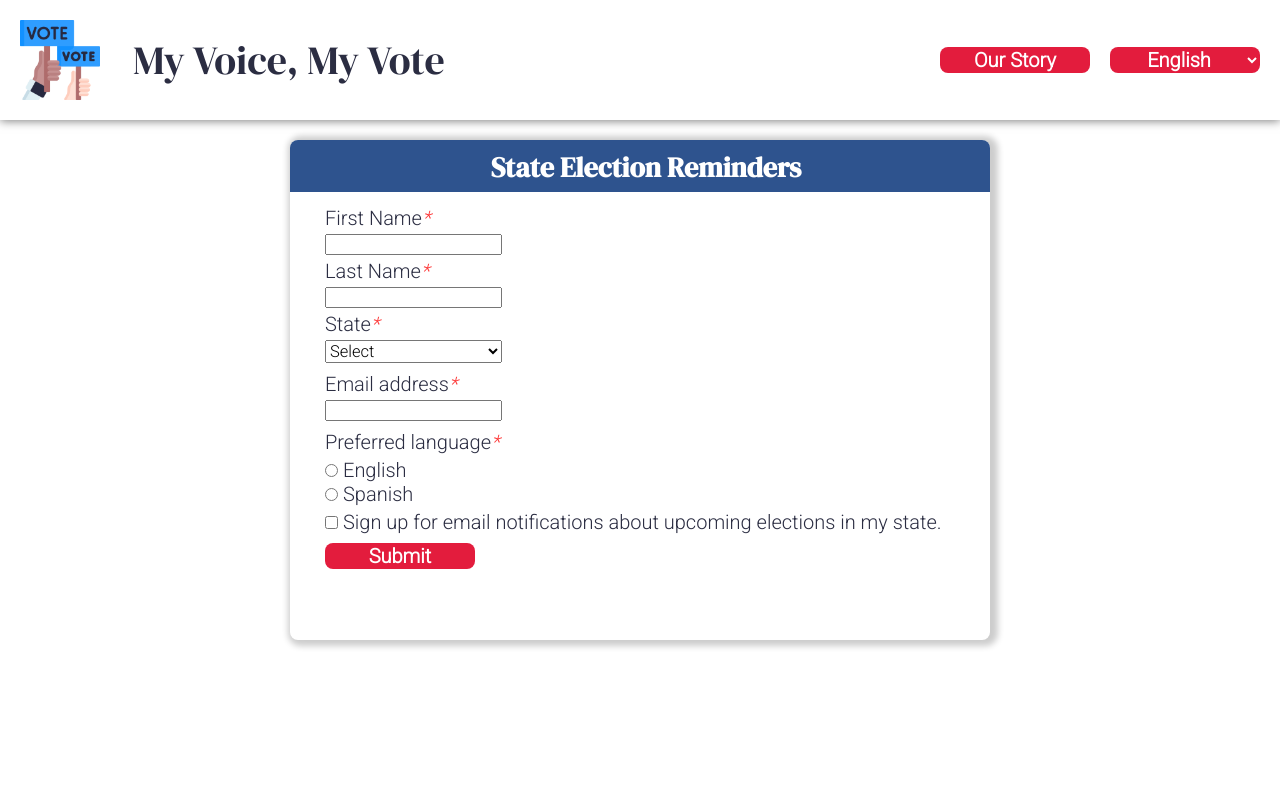
Test case: Mi Voz, Mi Voto email notification form user flow › Should be able to input a first name, last name, email & select a state, language, and confirm subscription
Select "English" in the dropdown with class "en-espanol-button" at (1185, 60), box [1110, 47, 1260, 73]
Type "Elise" into the field with id "first_name" at (414, 245), box [325, 234, 502, 255]
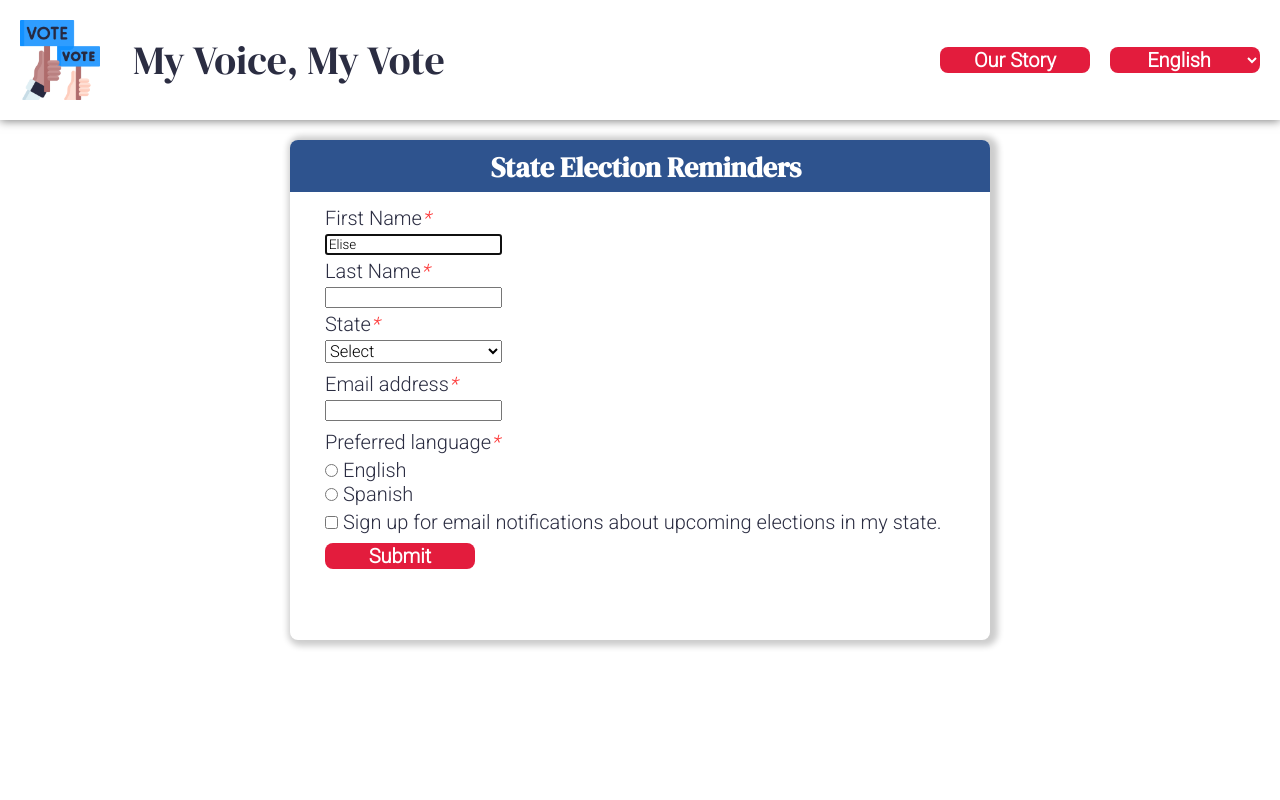
Type "Beall" into the field with id "last_name" at (414, 298), box [325, 287, 502, 308]
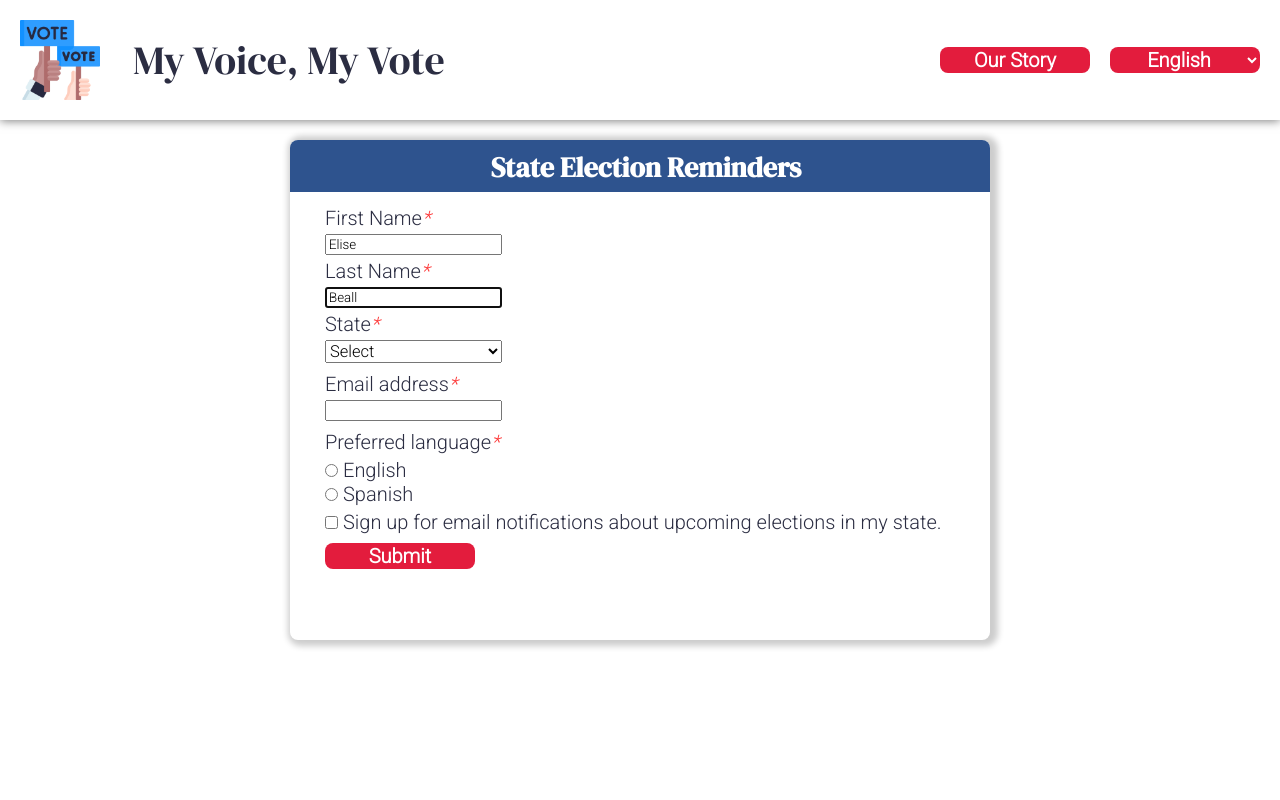
Select "Colorado" in the dropdown with id "state_name" at (414, 352), box [325, 340, 502, 363]
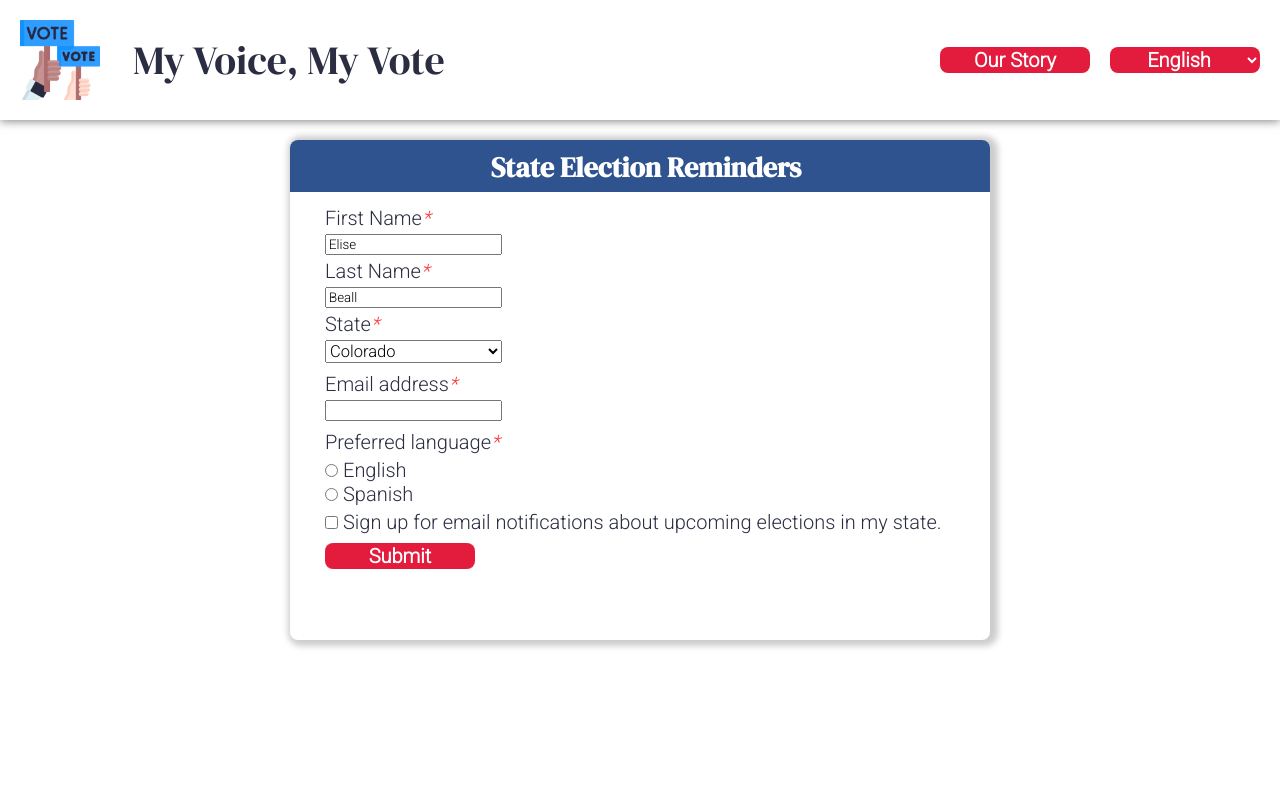
Type "elisebeall@gmail.com" into the field with id "email" at (414, 411), box [325, 400, 502, 421]
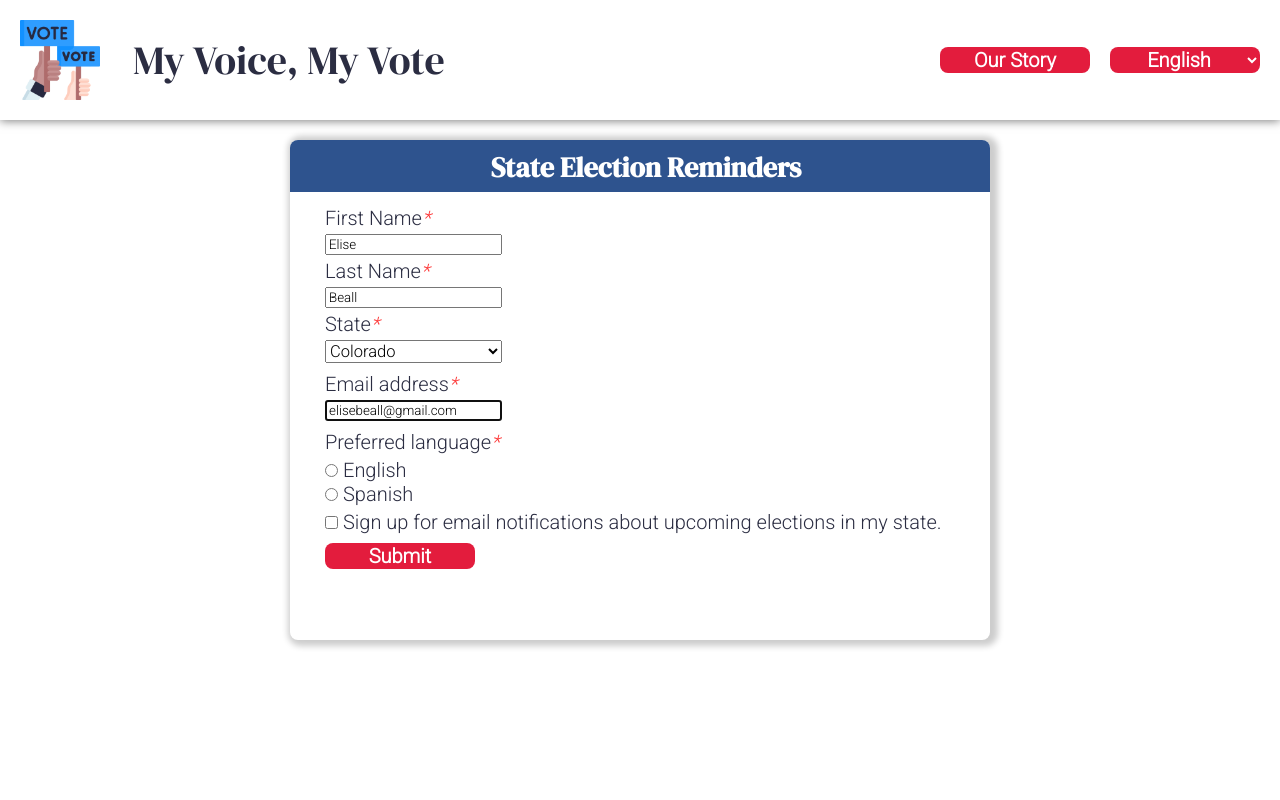
Click the radio button labelled "English" at (332, 471), box [325, 464, 338, 477]
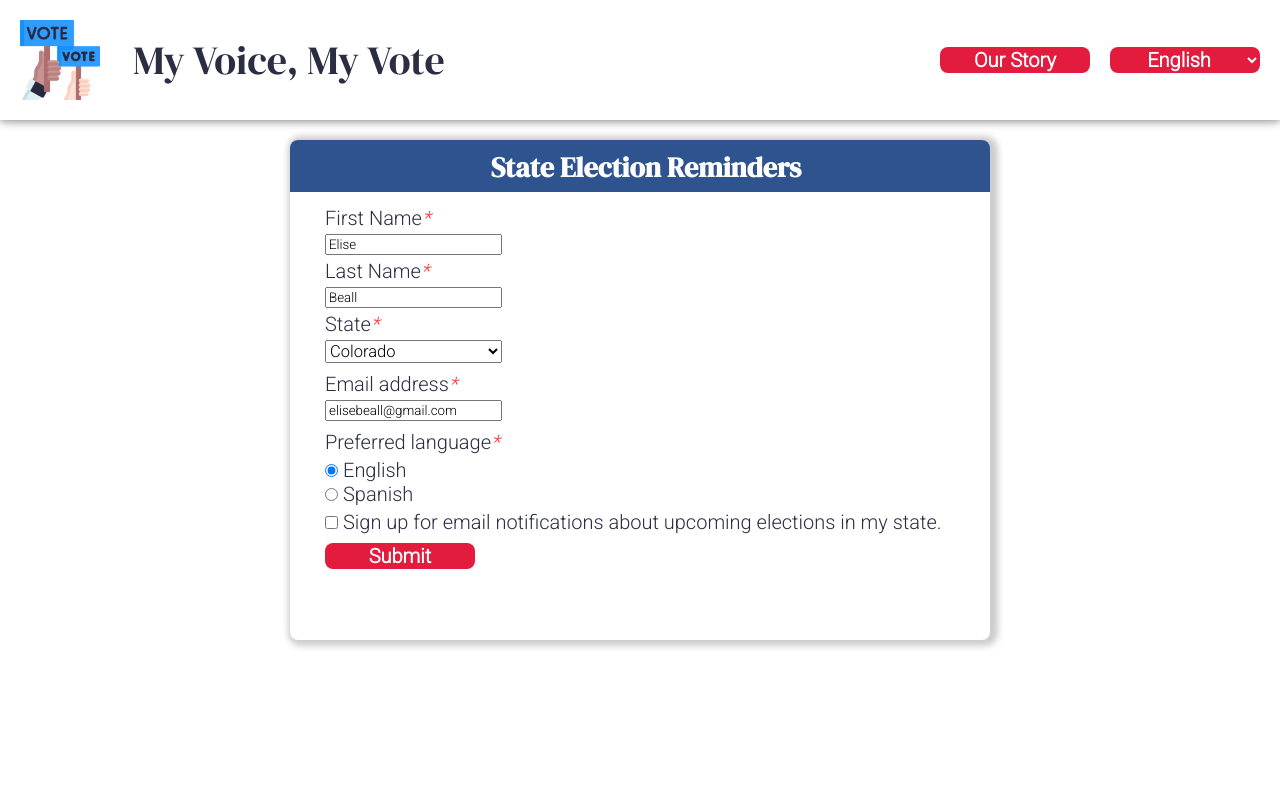
Click the checkbox with id "agree_to_emails" at (332, 523), box [325, 516, 338, 529]
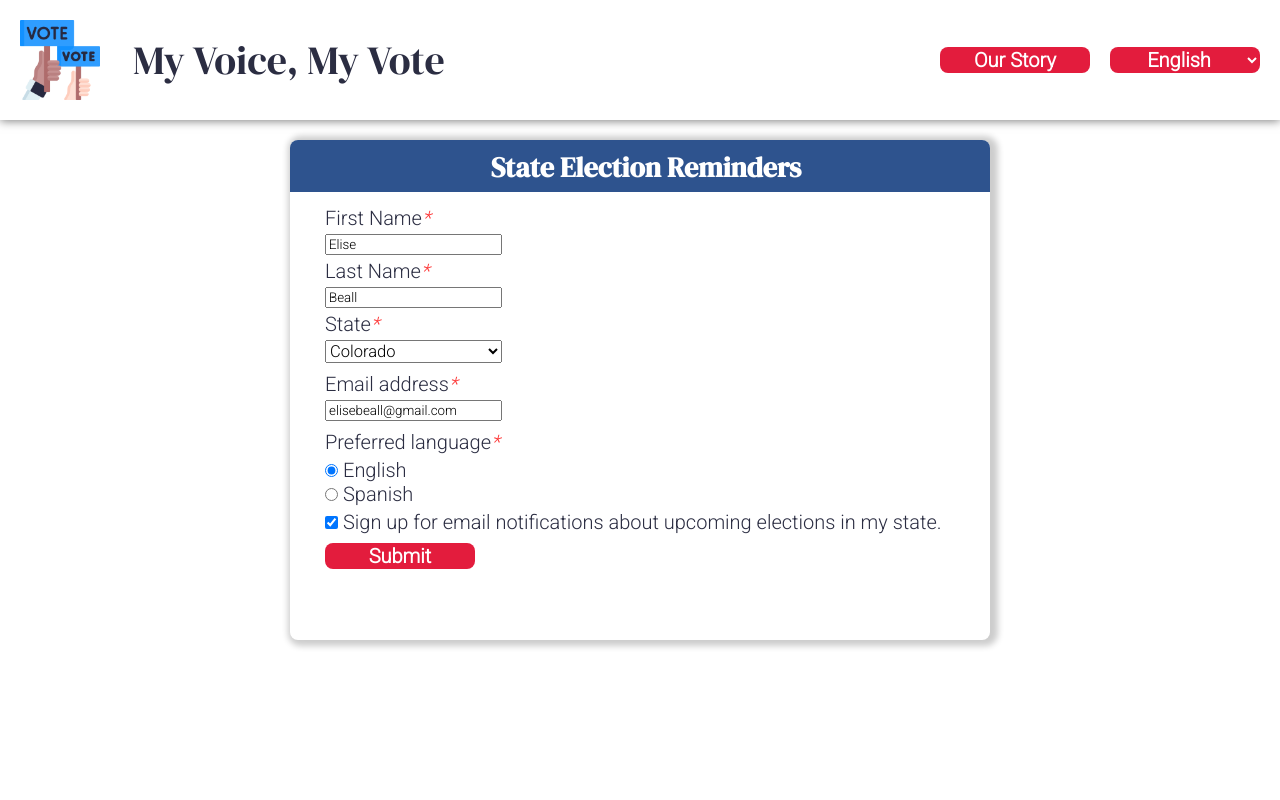
Check: the checkbox with id "agree_to_emails" holds "true", box [325, 516, 338, 529]
